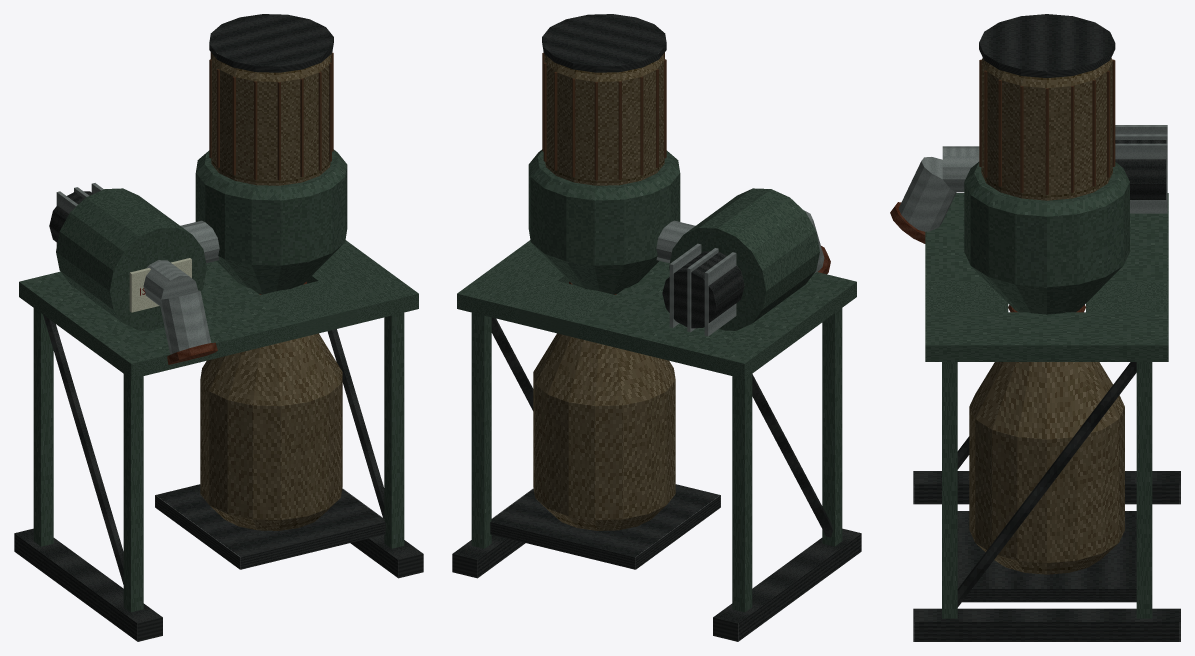
The model's file is level_work_dust_extractor.glb.
The picture shows the model from 3 angles, left to right: view 1: azimuth 30°, elevation 25°; view 2: azimuth 150°, elevation 25°; view 3: azimuth 270°, elevation 25°; orthographic projection. The views are drawn at different scales.
Parts seen in each view (by area): view 1: level_work_dust_extractor; view 2: level_work_dust_extractor; view 3: level_work_dust_extractor.
Boxes of the visible parts, box(x1,y1,x2,y2) form: level_work_dust_extractor: box(14, 14, 423, 641); level_work_dust_extractor: box(452, 14, 861, 641); level_work_dust_extractor: box(890, 14, 1180, 641).
Size of the model in its own units: 1.48 by 2.5 by 1.2.
Materials: 8 (8 with a texture image).
